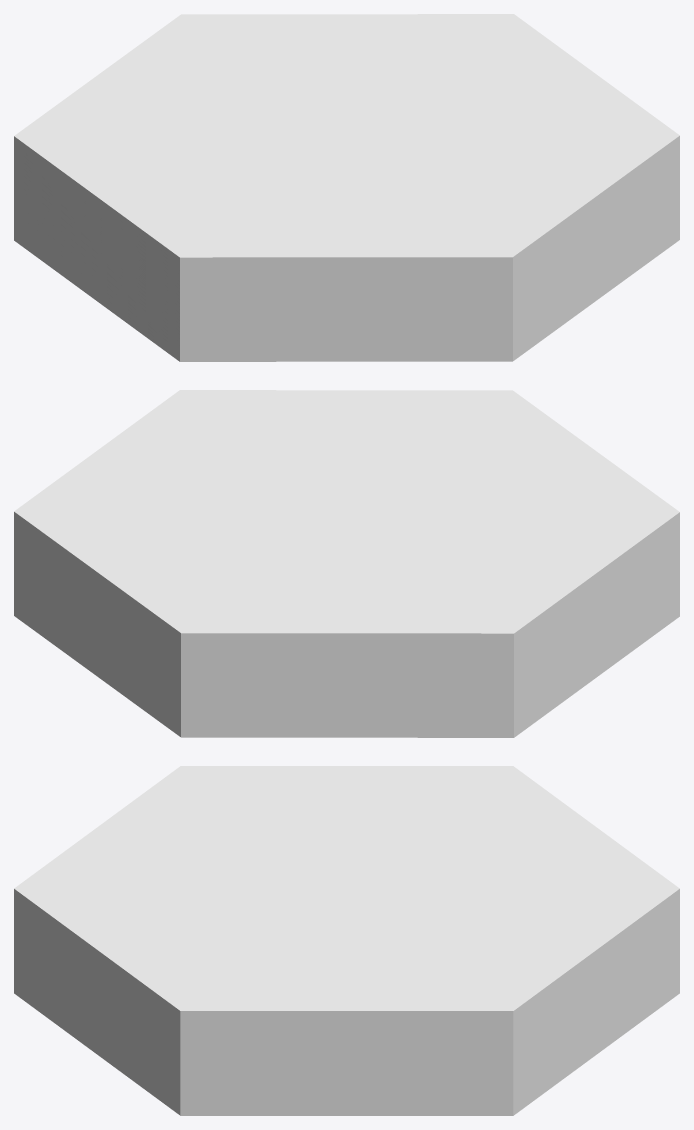
Rendered from Hex22.fbx.
3 views of the same model, one above another, from view 1: azimuth 30°, elevation 25°; view 2: azimuth 150°, elevation 25°; view 3: azimuth 270°, elevation 25° (orthographic).
Visible parts, largest first — view 1: Hex22; view 2: Hex22; view 3: Hex22.
Boxes of the visible parts, x1,y1,x2,y2 form: Hex22: (14,14,679,361); Hex22: (14,390,679,737); Hex22: (14,766,679,1115).
Bounding box in the file's own units: 1 × 0.2003 × 1.15.
